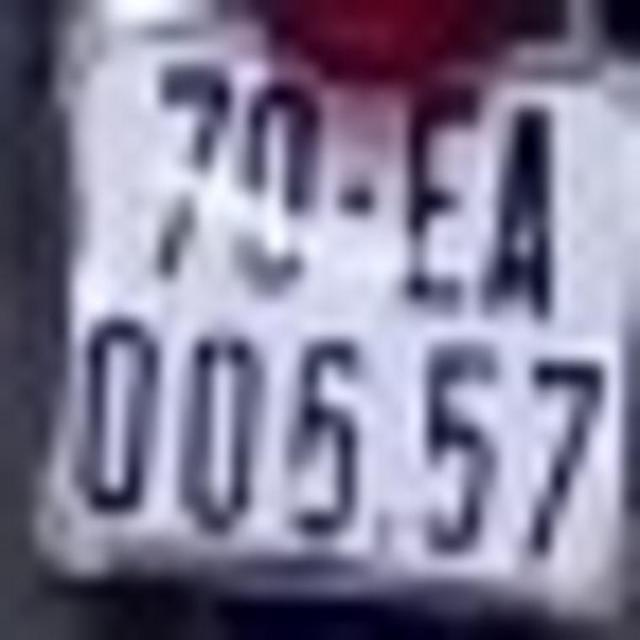0: (177, 338, 258, 537), (244, 87, 322, 291), (79, 316, 158, 509)
5: (424, 344, 496, 554), (292, 339, 359, 536)
7: (529, 354, 603, 557), (157, 69, 230, 274)
A: (487, 104, 554, 322)
E: (409, 89, 474, 305)
